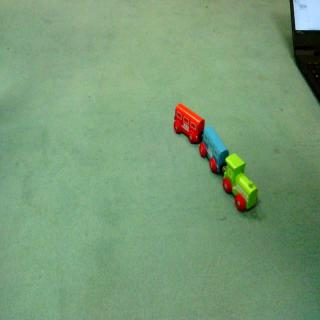train: (170, 101, 263, 220)
